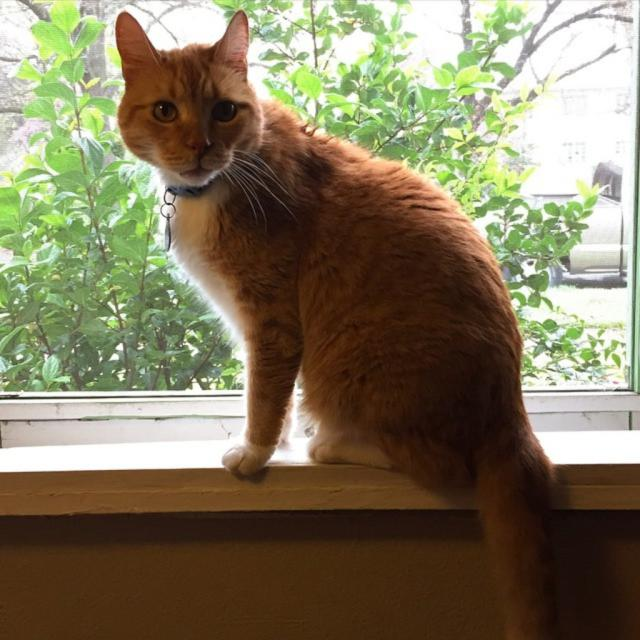Cat: (114, 8, 556, 639)
